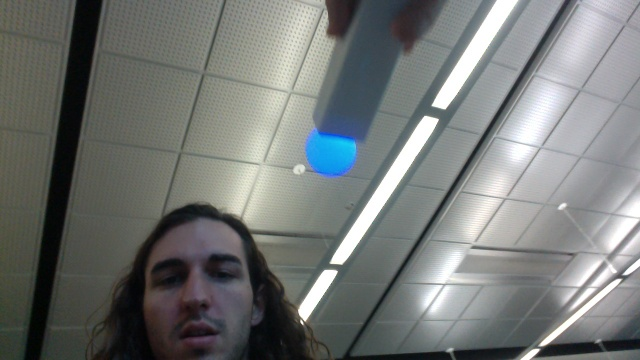wand: (306, 127, 359, 176)
